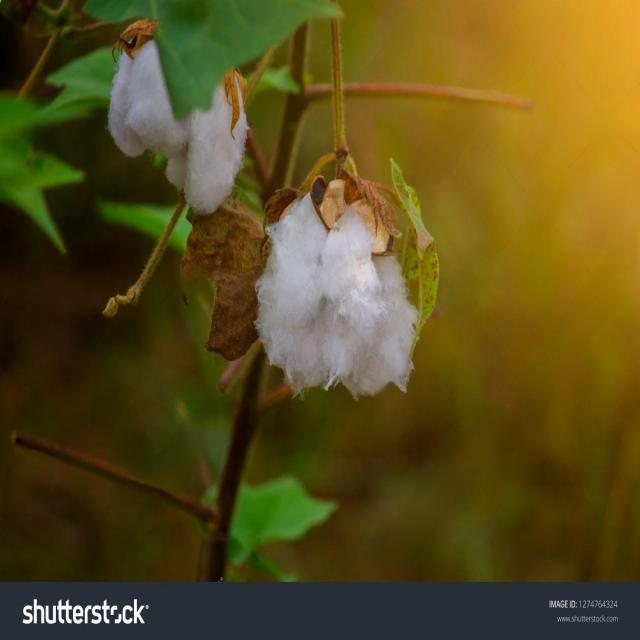Early_blight: (242, 169, 432, 400), (98, 17, 251, 219)
